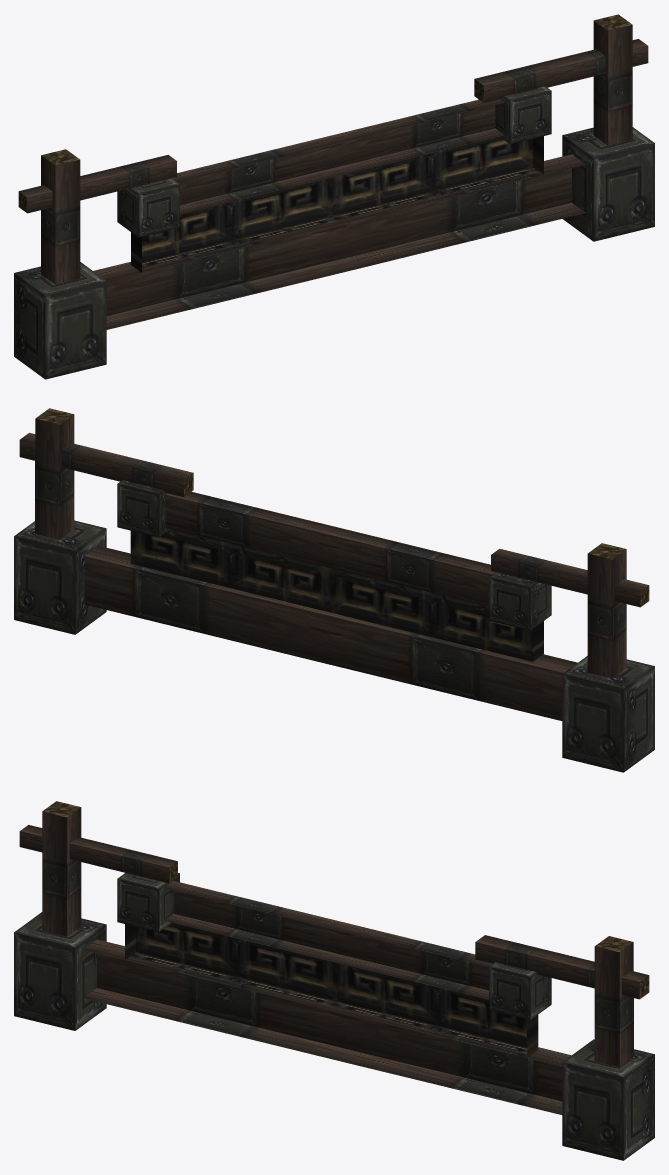
Rendered from 10401_wood11.FBX.
3 views of the same model, one above another, from view 1: azimuth 30°, elevation 25°; view 2: azimuth 150°, elevation 25°; view 3: azimuth 330°, elevation 25° (orthographic).
Visible parts, largest first — view 1: 10401_wood11; view 2: 10401_wood11; view 3: 10401_wood11.
Boxes of the visible parts, x1=… form: 10401_wood11: x1=14, y1=14, x2=654, y2=379; 10401_wood11: x1=14, y1=408, x2=654, y2=772; 10401_wood11: x1=14, y1=801, x2=654, y2=1160.
Bounding box in the file's own units: 1226 × 383 × 107.
